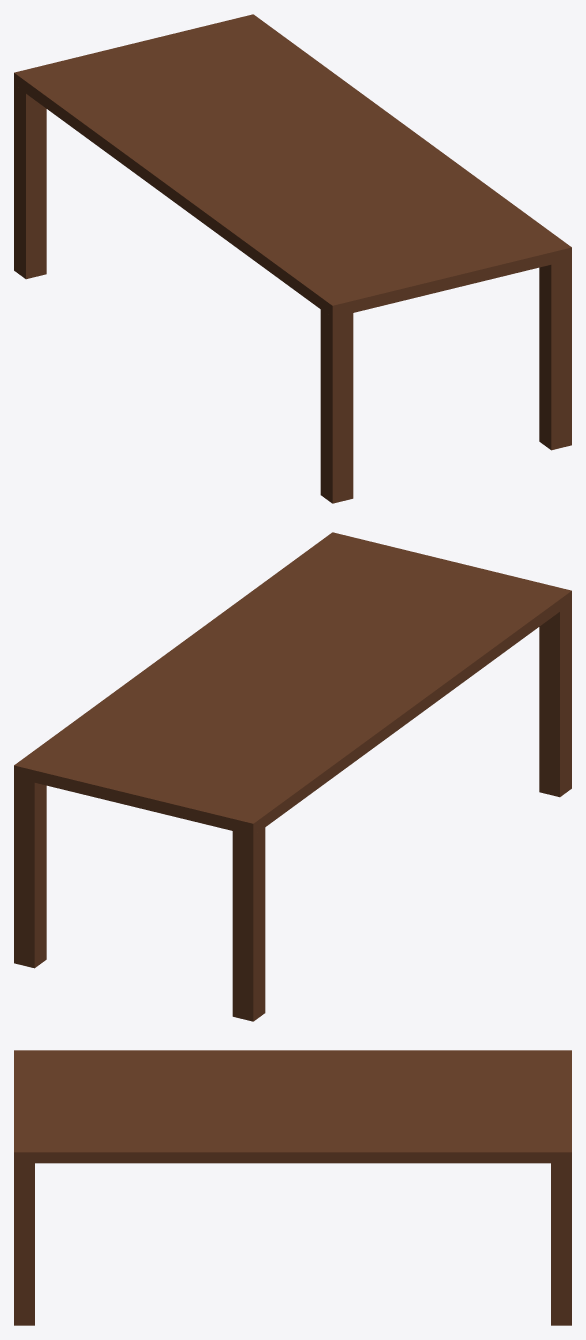
Rendered from GrandeTable_5.fbx.
3 views of the same model, one above another, from view 1: azimuth 30°, elevation 25°; view 2: azimuth 150°, elevation 25°; view 3: azimuth 270°, elevation 25° (orthographic). The views are drawn at different scales.
Visible parts, largest first — view 1: pCube43, pCube47, pCube46, pCube49; view 2: pCube43, pCube49, pCube48, pCube47; view 3: pCube43, pCube48, pCube46.
Part boxes in pixels (x1,y1,x2,y2): pCube43: (14,14,571,317); pCube47: (320,309,353,503); pCube46: (539,259,571,450); pCube49: (14,84,46,279); pCube43: (14,532,571,835); pCube49: (232,827,265,1021); pCube48: (14,777,46,968); pCube47: (539,602,571,797); pCube43: (14,1050,571,1163); pCube48: (551,1162,571,1325); pCube46: (14,1162,34,1325).
Size of the model in its own units: 50.06 by 39.53 by 115.
